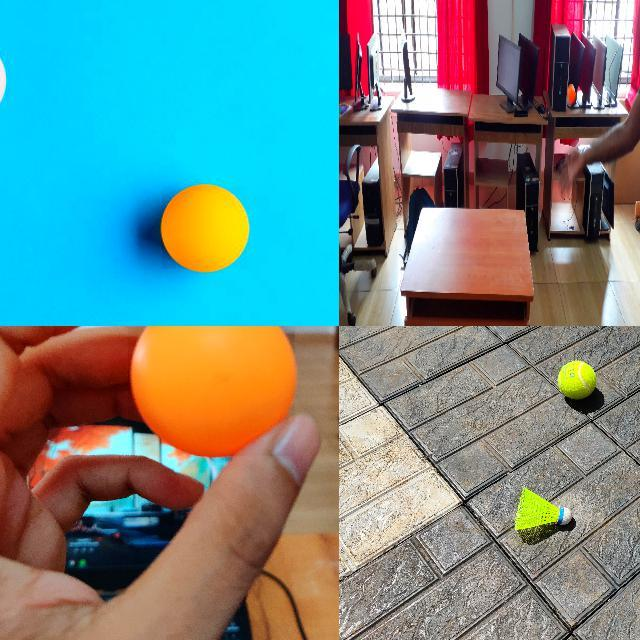ping-pong-ball: (128, 326, 297, 458), (162, 186, 248, 270), (568, 84, 576, 106)
